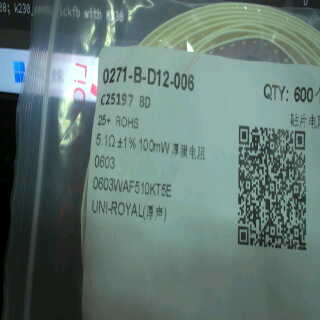5.1R: (95, 131, 118, 150)
